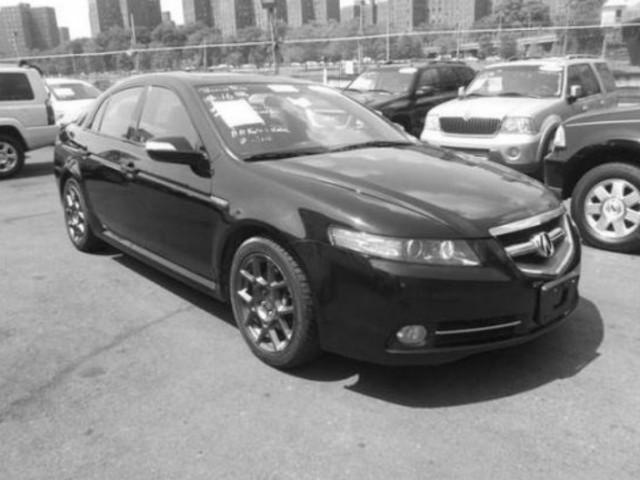car: (51, 71, 588, 375)
